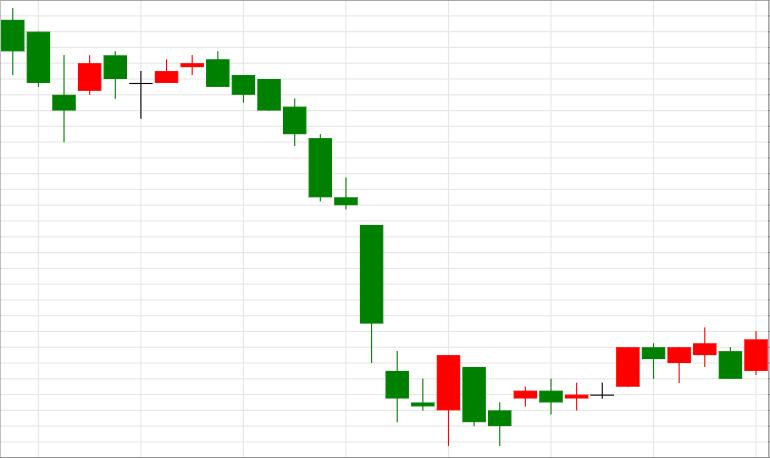bullish_engulfing_rise: (206, 51, 460, 447)
